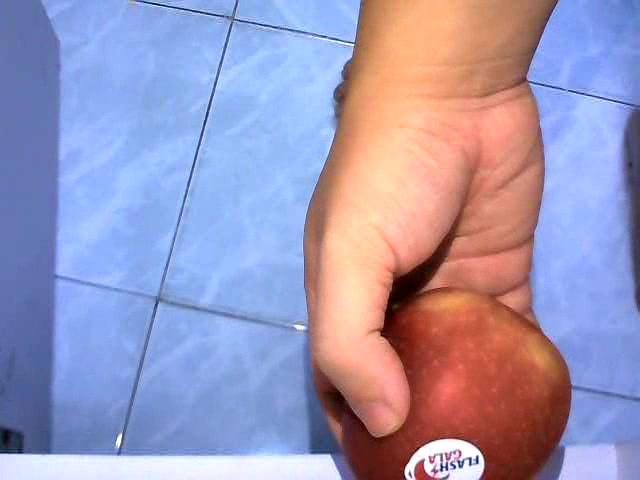apple: (340, 286, 574, 479)
